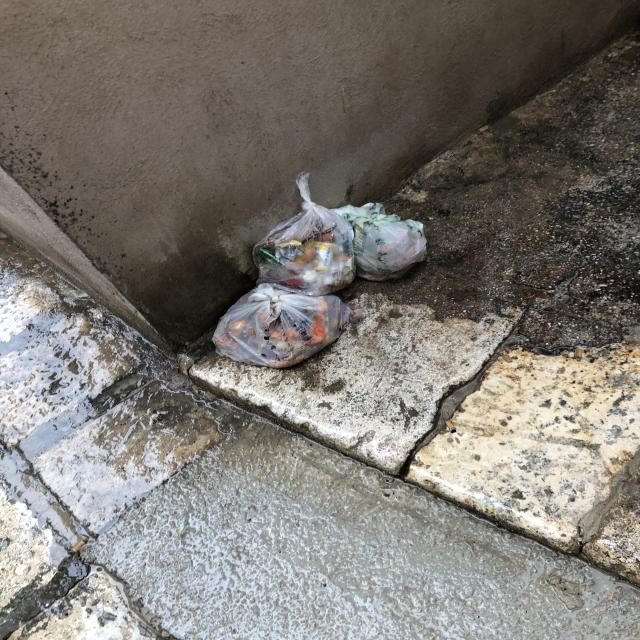Organic Waste -White Bag-: (210, 282, 355, 369), (252, 169, 356, 290), (330, 194, 432, 283)
